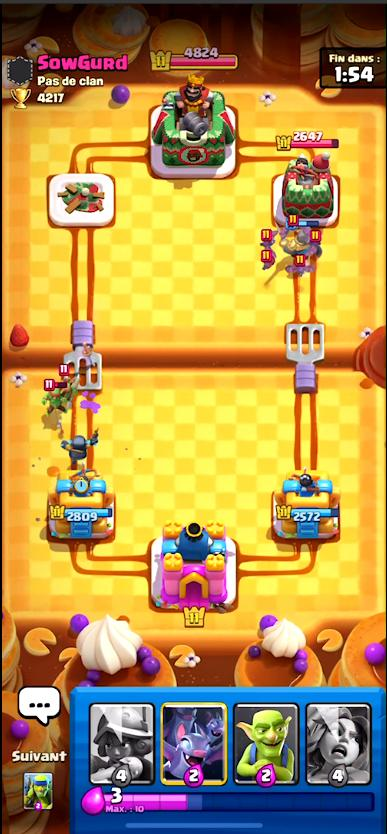bat: (282, 214, 307, 243), (288, 255, 314, 282), (306, 232, 325, 256), (261, 247, 277, 272), (260, 228, 278, 248)
chevalier: (285, 221, 318, 262)
gobelin_lances: (44, 382, 69, 415), (57, 364, 78, 396)
mini_PEKKA: (62, 429, 99, 466)
